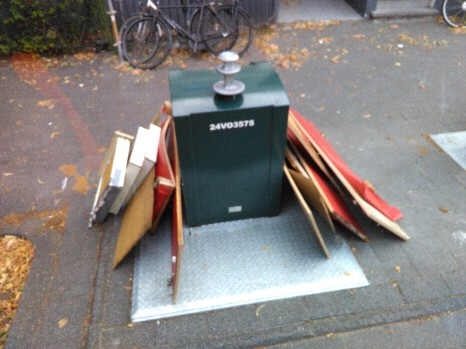Container: (160, 68, 284, 228)
Rest: (290, 106, 383, 227), (87, 141, 177, 235)
